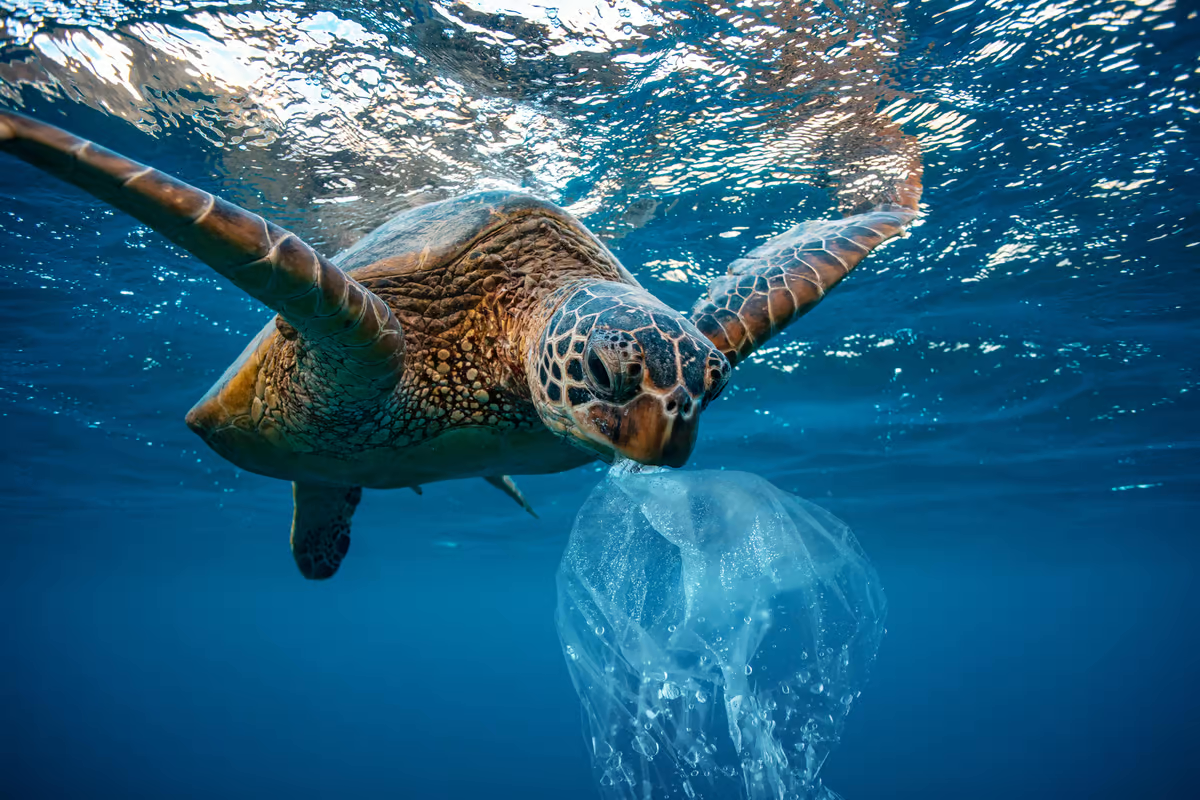Plastic: (548, 454, 901, 800)
Turtle: (1, 97, 921, 590)
